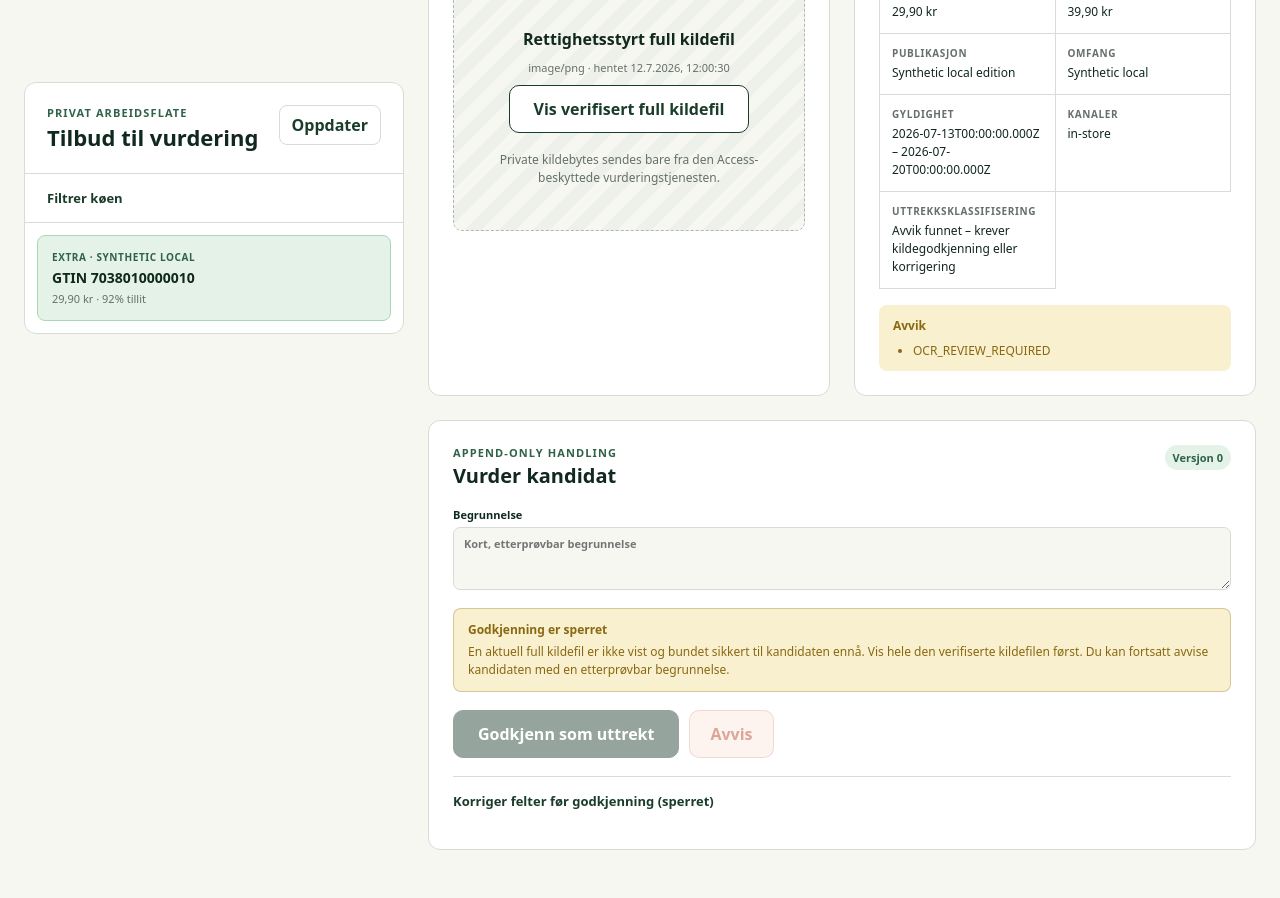
ReviewWorkspace › associates the structural approval controls with the evidence blocker
(page scrolled)
Expected: the heading "Vurder kandidat" is shown, [453,463,617,489]
Expected: the message shows "Du kan fortsatt avvise kandidaten", [468,643,1208,678]
Click the heading "Korriger felter før godkjenning (sperret)": (583, 801) [453,792,714,810]
(page scrolled)
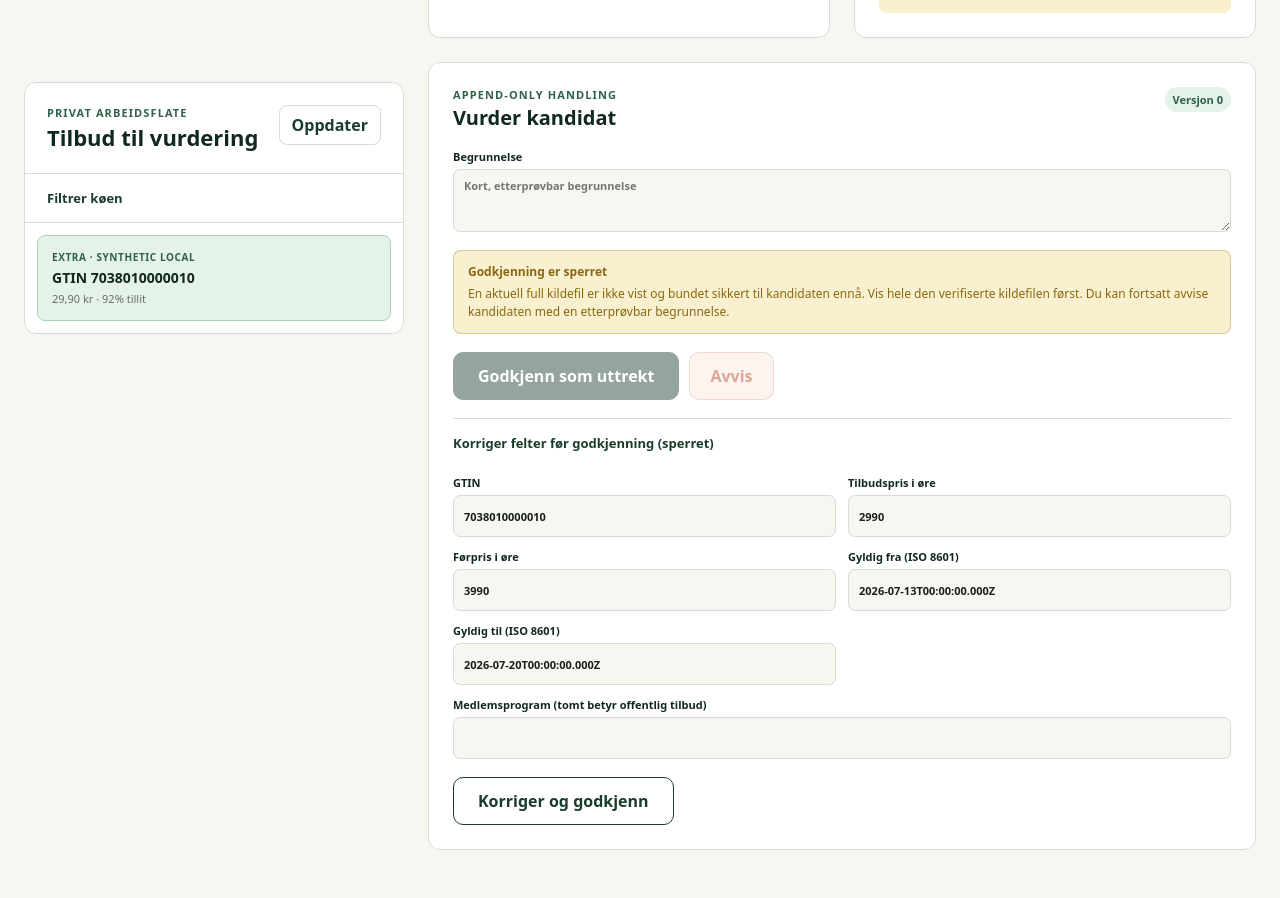
Expected: the button "Korriger og godkjenn" is disabled, [453,777,674,825]
